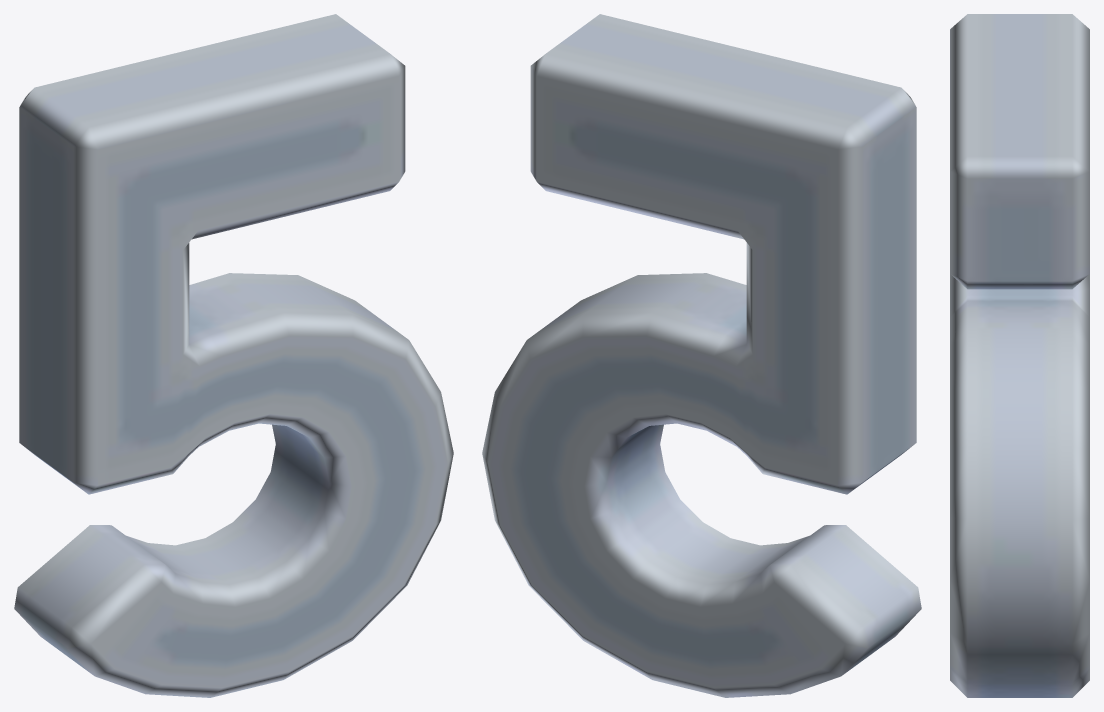
Rendered from rmk_nmb_5.dae.
3 views of the same model, side by side, from view 1: azimuth 30°, elevation 25°; view 2: azimuth 150°, elevation 25°; view 3: azimuth 270°, elevation 25° (orthographic). The views are drawn at different scales.
Parts seen in each view (by area): view 1: rmk_nmb_5; view 2: rmk_nmb_5; view 3: rmk_nmb_5.
Boxes of the visible parts, bbox=[...] form: rmk_nmb_5: bbox=[14, 14, 453, 697]; rmk_nmb_5: bbox=[482, 14, 921, 697]; rmk_nmb_5: bbox=[950, 14, 1089, 697].
Bounding box in the file's own units: 20.02 × 29.8 × 6.5.
Materials: 1 (1 with a texture image).
